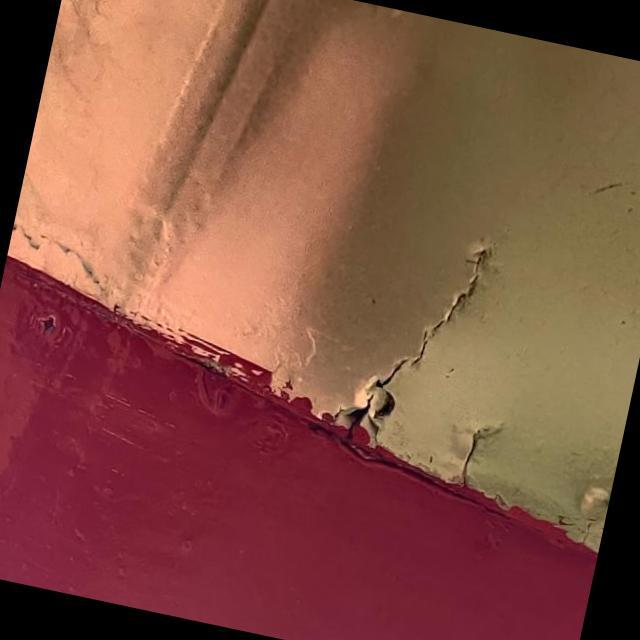Rupture: (314, 194, 514, 476), (428, 399, 521, 507)
